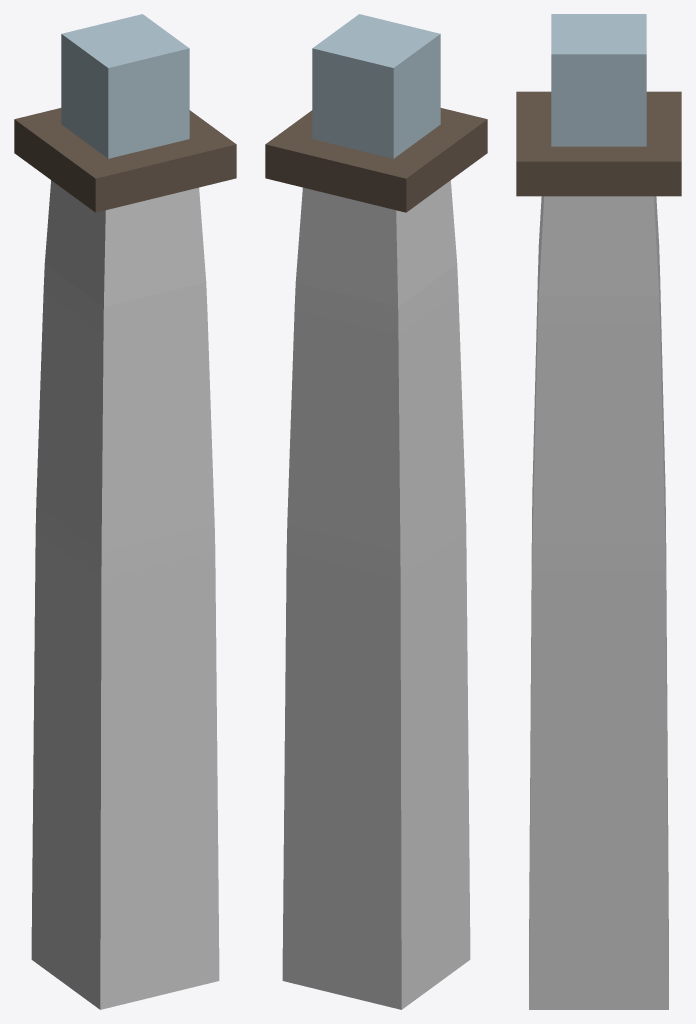
File: guomao3.glb
3 renders of one model, left to right at view 1: azimuth 30°, elevation 25°; view 2: azimuth 150°, elevation 25°; view 3: azimuth 270°, elevation 25°, orthographic.
Parts seen in each view (by area): view 1: guomao3; view 2: guomao3; view 3: guomao3.
Part boxes in pixels (<box>): guomao3: <box>14,14,236,1009</box>; guomao3: <box>265,14,487,1009</box>; guomao3: <box>516,14,681,1009</box>.
Bounding box in the file's own units: 52 × 328 × 52.
